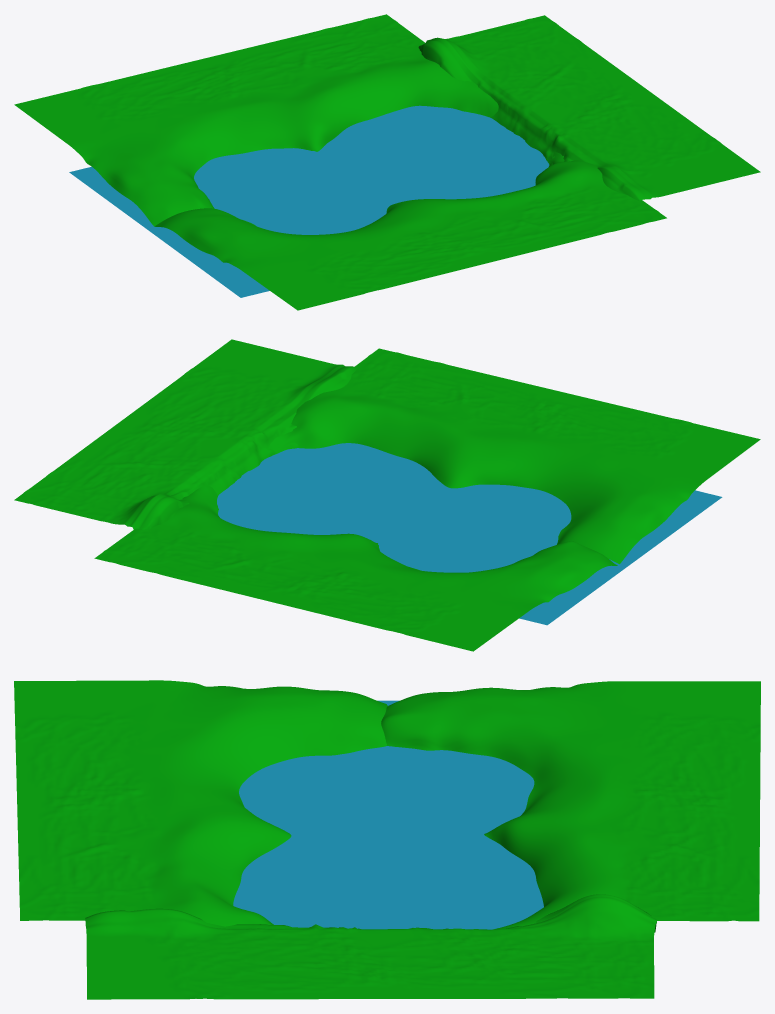
3 views of the same model, one above another, from view 1: azimuth 30°, elevation 25°; view 2: azimuth 150°, elevation 25°; view 3: azimuth 270°, elevation 25° (orthographic). The views are drawn at different scales.
Parts seen in each view (by area): view 1: Plane002.002, Plane003, Plane002.001, Plane002.003; view 2: Plane002.001, Plane002.002, Plane003, Plane002.003; view 3: Plane002.001, Plane002.002, Plane003, Plane002.003.
Part boxes in pixels (box(x1,y1,x2,y2)): Plane002.002: box(14, 14, 498, 226); Plane003: box(69, 105, 549, 297); Plane002.001: box(154, 152, 666, 310); Plane002.003: box(418, 15, 760, 200); Plane002.001: box(269, 348, 760, 564); Plane002.002: box(94, 485, 617, 651); Plane003: box(217, 443, 722, 625); Plane002.003: box(14, 339, 357, 529); Plane002.001: box(14, 680, 387, 926); Plane002.002: box(381, 681, 760, 929); Plane003: box(233, 700, 543, 929); Plane002.003: box(85, 894, 656, 999).
Bounding box in the file's own units: 130 × 17.17 × 127.
